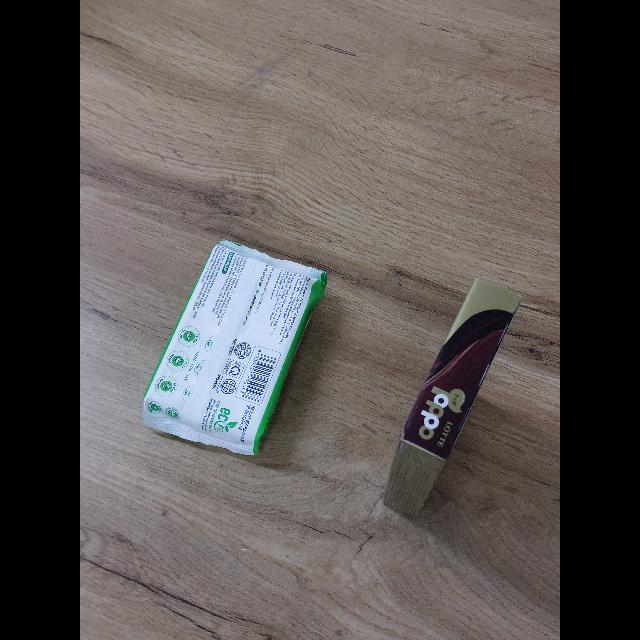banh_toppo_socola: (382, 281, 520, 523)
khan_giay: (141, 241, 328, 458)
